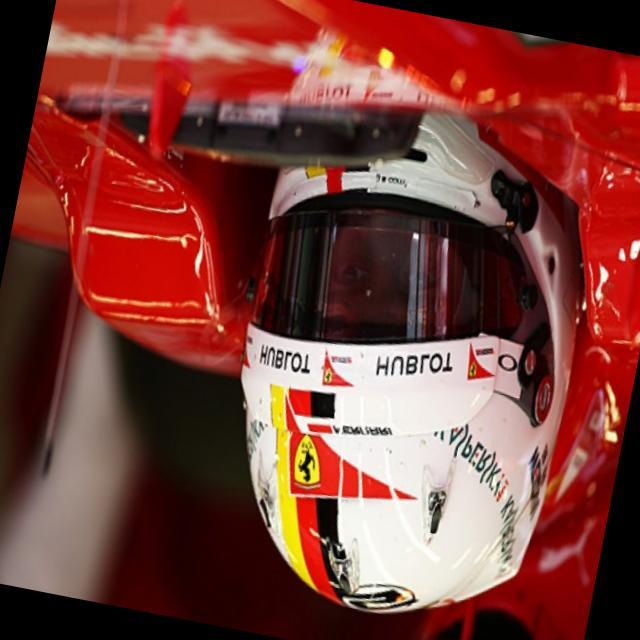Helm: (192, 86, 616, 640)
